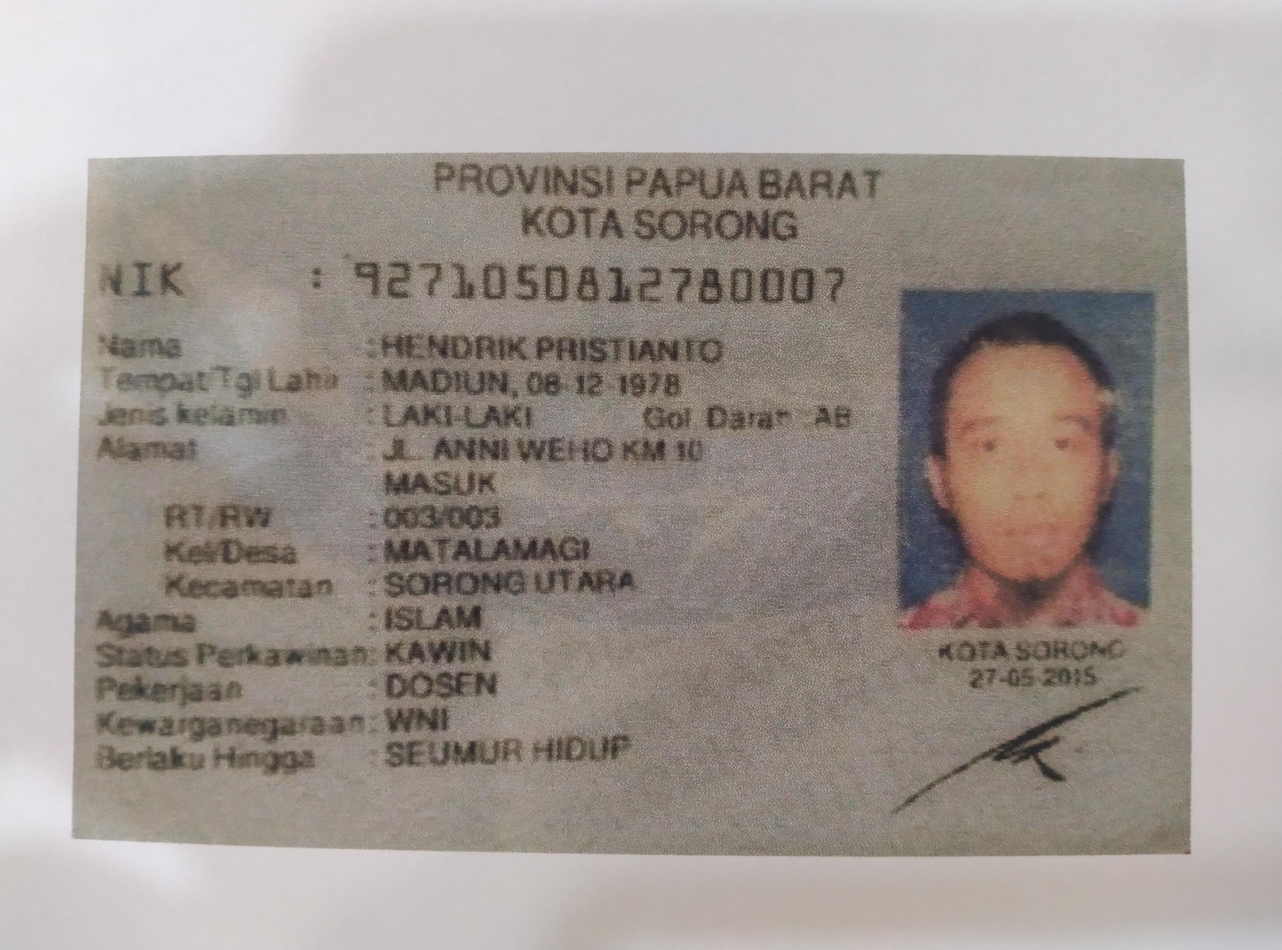ID-card: (81, 157, 1190, 853)
